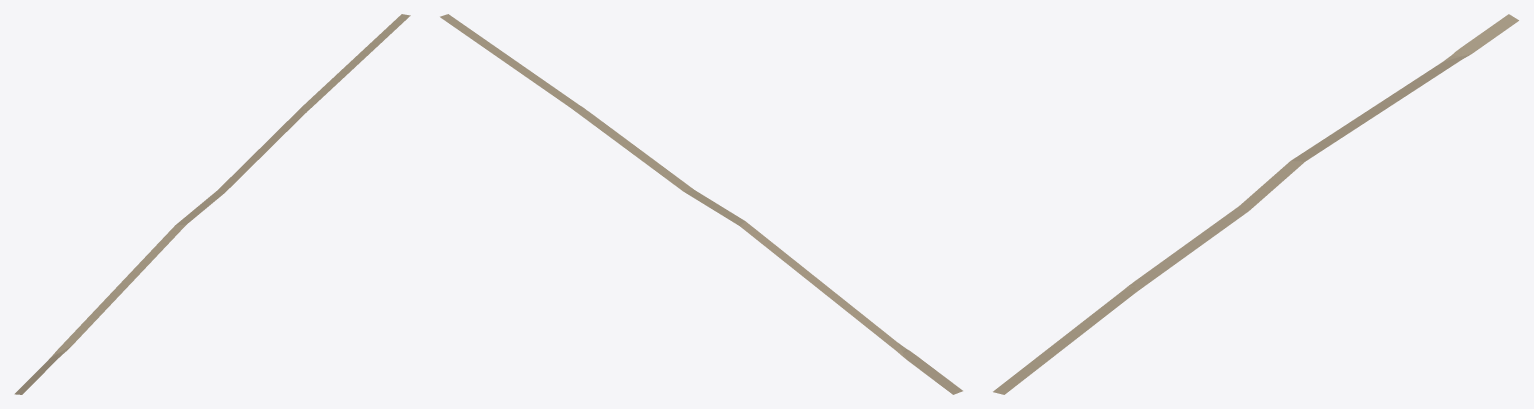
Rendered from farm_-35_-33_track.glb.
3 renders of one model, left to right at view 1: azimuth 90°, elevation 25°; view 2: azimuth 150°, elevation 25°; view 3: azimuth 270°, elevation 25°, orthographic. The views are drawn at different scales.
Visible parts, largest first — view 1: geometry_0; view 2: geometry_0; view 3: geometry_0.
Boxes of the visible parts, left/top/right/bottom form: geometry_0: left=14, top=14, right=410, bottom=394; geometry_0: left=440, top=14, right=962, bottom=394; geometry_0: left=993, top=14, right=1518, bottom=394.
Size of the model in its own units: 257 by 17.83 by 129.
